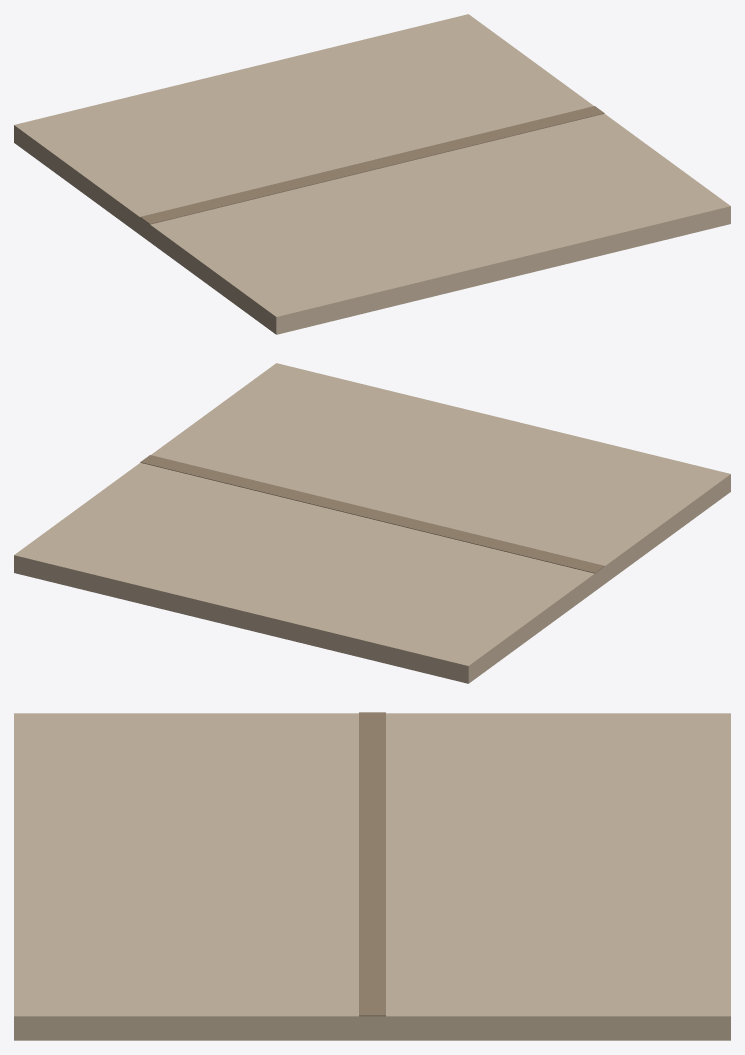
Rendered from city_paving_8.glb.
3 views of the same model, one above another, from view 1: azimuth 30°, elevation 25°; view 2: azimuth 150°, elevation 25°; view 3: azimuth 270°, elevation 25° (orthographic). The views are drawn at different scales.
Parts seen in each view (by area): view 1: CityPaving8_Slab, CityPaving8_Inlay; view 2: CityPaving8_Slab, CityPaving8_Inlay; view 3: CityPaving8_Slab, CityPaving8_Inlay.
Part boxes in pixels (x1,y1,x2,y2): CityPaving8_Slab: [14, 14, 730, 334]; CityPaving8_Inlay: [140, 106, 604, 224]; CityPaving8_Slab: [14, 363, 730, 683]; CityPaving8_Inlay: [140, 455, 604, 573]; CityPaving8_Slab: [14, 713, 730, 1040]; CityPaving8_Inlay: [359, 712, 385, 1016].
Bounding box in the file's own units: 8 × 0.31 × 8.
